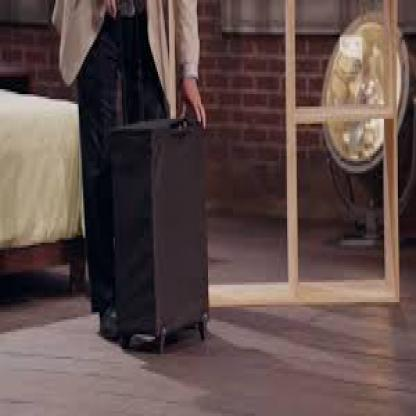maleta: (107, 109, 218, 361)
